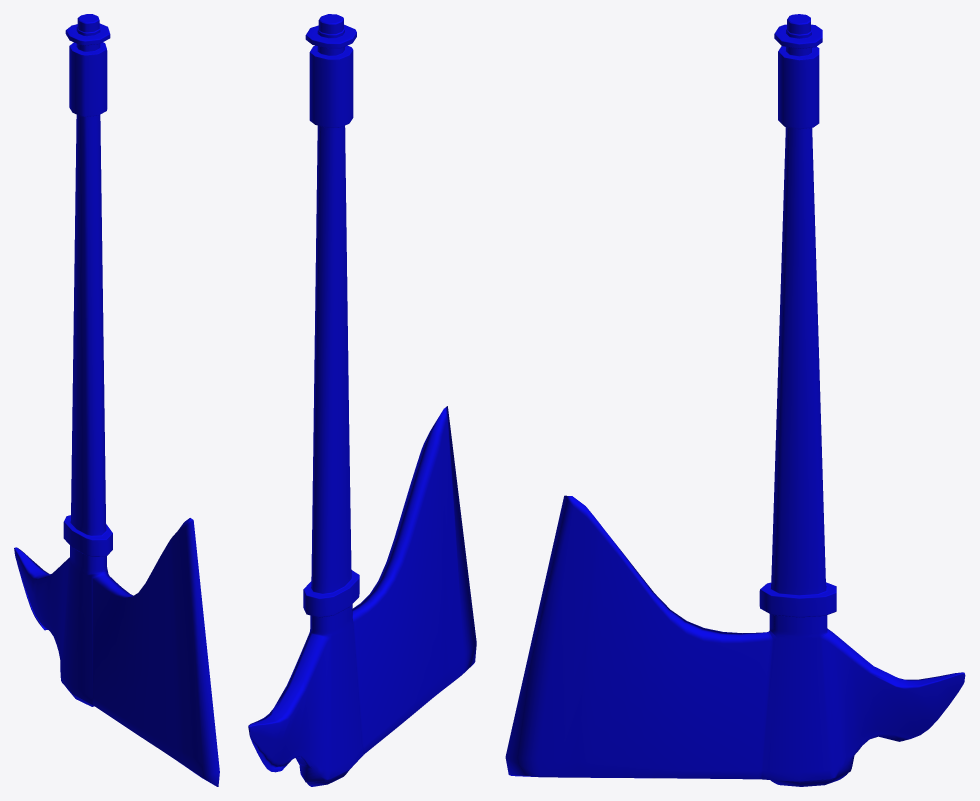
Rendered from Axe.fbx.
3 views of the same model, side by side, from view 1: azimuth 30°, elevation 25°; view 2: azimuth 150°, elevation 25°; view 3: azimuth 270°, elevation 25° (orthographic). The views are drawn at different scales.
Visible parts, largest first — view 1: pCylinder1; view 2: pCylinder1; view 3: pCylinder1.
Boxes of the visible parts, x1,y1,x2,y2 form: pCylinder1: [14, 14, 219, 786]; pCylinder1: [248, 14, 476, 786]; pCylinder1: [505, 14, 965, 786].
Bounding box in the file's own units: 0.2402 × 4.05 × 2.22.
